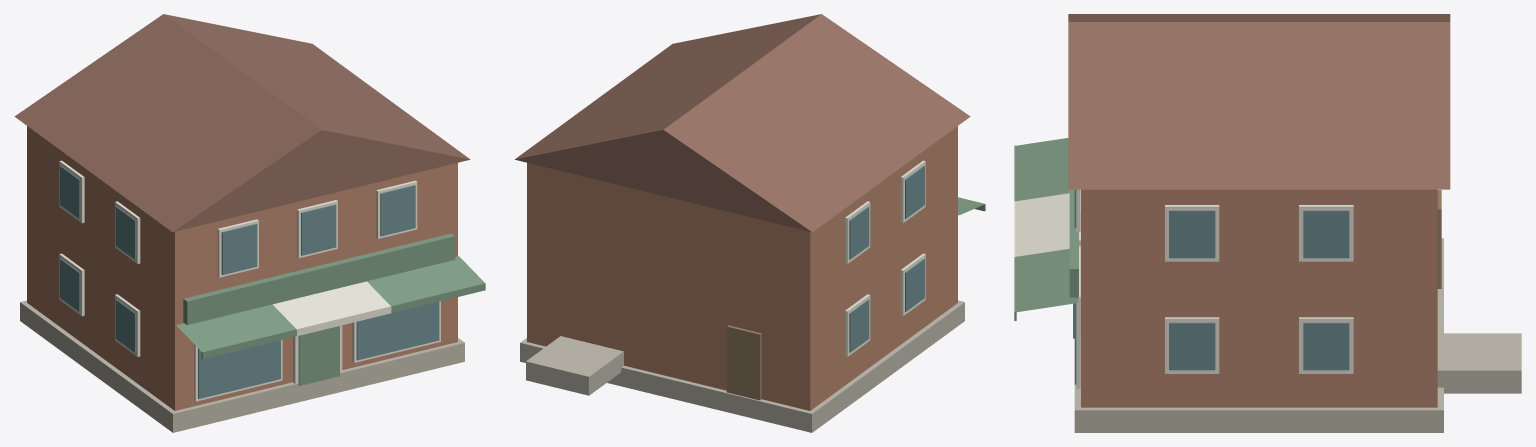
The picture shows the model from 3 angles, left to right: view 1: azimuth 30°, elevation 25°; view 2: azimuth 150°, elevation 25°; view 3: azimuth 270°, elevation 25°; orthographic projection. The views are drawn at different scales.
Bounding box in the file's own units: 9.9 × 8.55 × 12.09.
